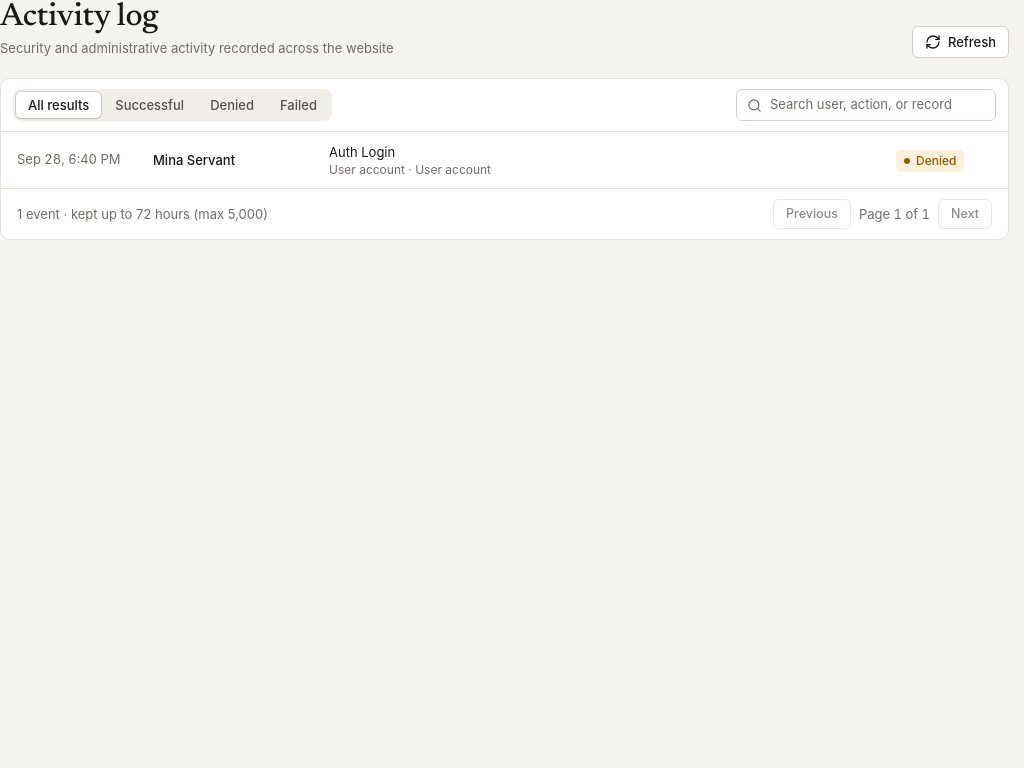
Test: Activity log › opens an event’s details beside the list
The width and height of the screenshot is (1024, 768).
Click the button "Mina Servant": (69,159) [1, 132, 1008, 188]
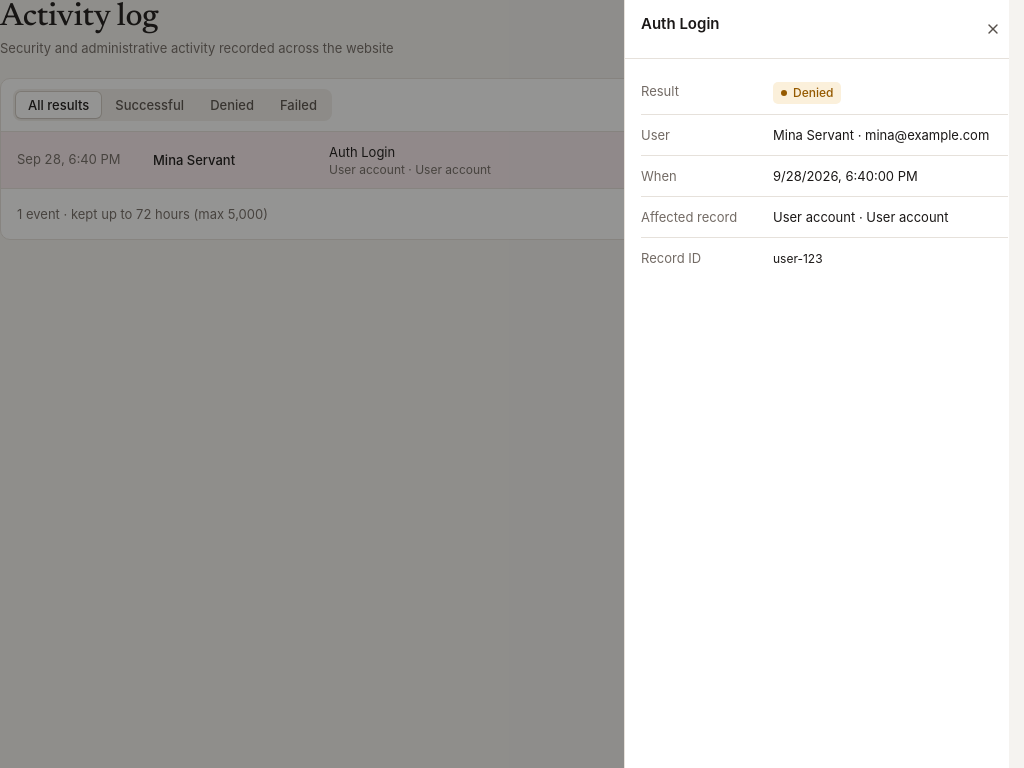
Check: the text "Record ID" is shown, box [641, 250, 701, 266]
Check: the text "user-123" is shown, box [773, 251, 823, 266]
